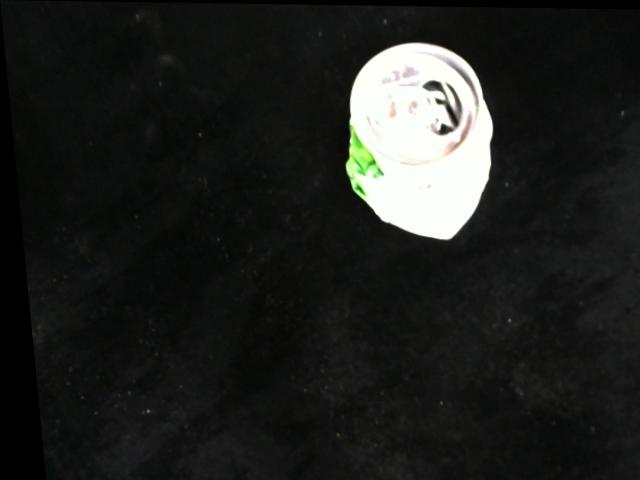can: (337, 30, 499, 243)
